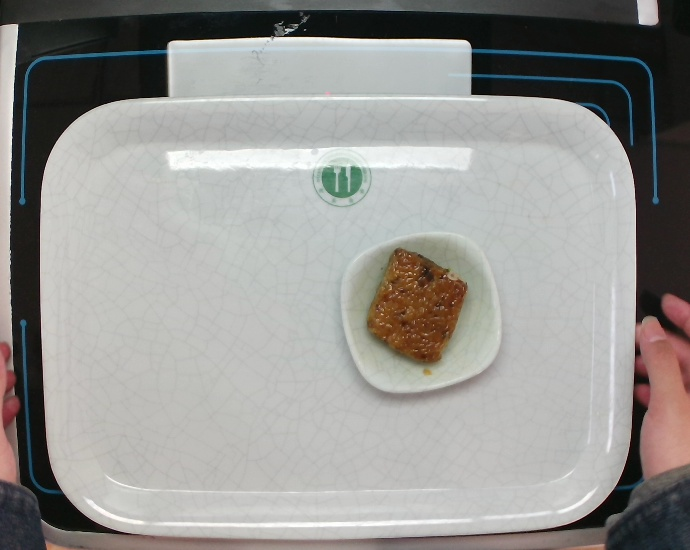JYsf-Si_Fang_Die: (336, 227, 506, 399)
